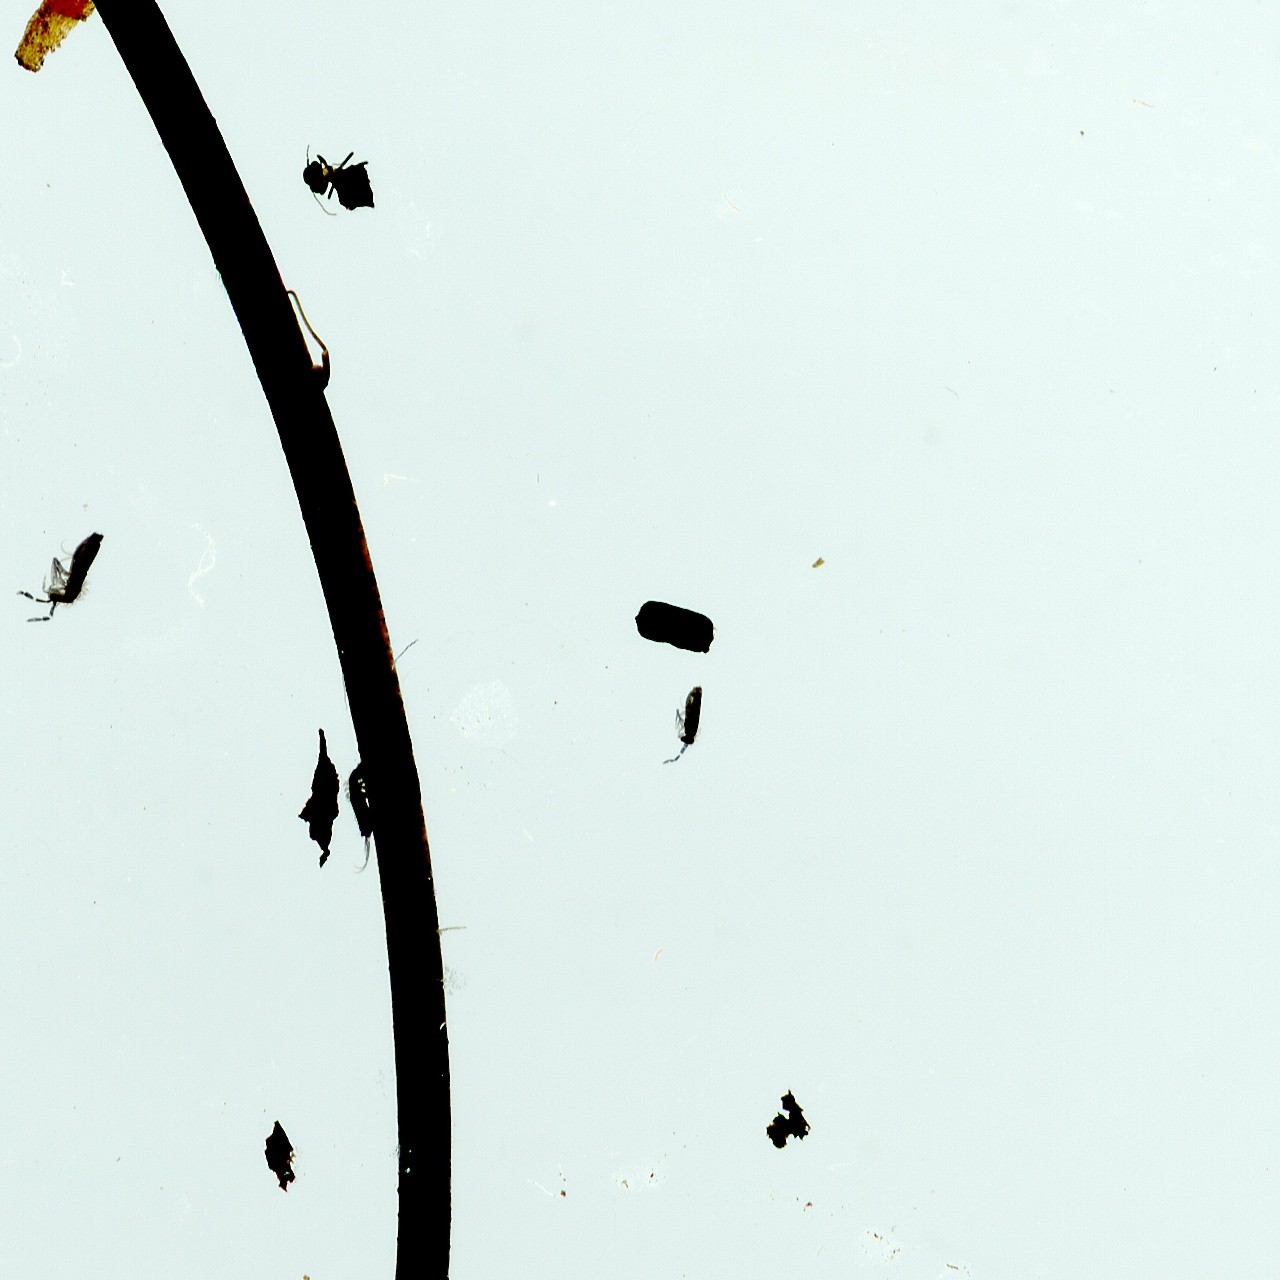arthropod: (1, 496, 124, 648), (653, 663, 714, 783), (295, 137, 380, 219), (341, 744, 387, 884)
